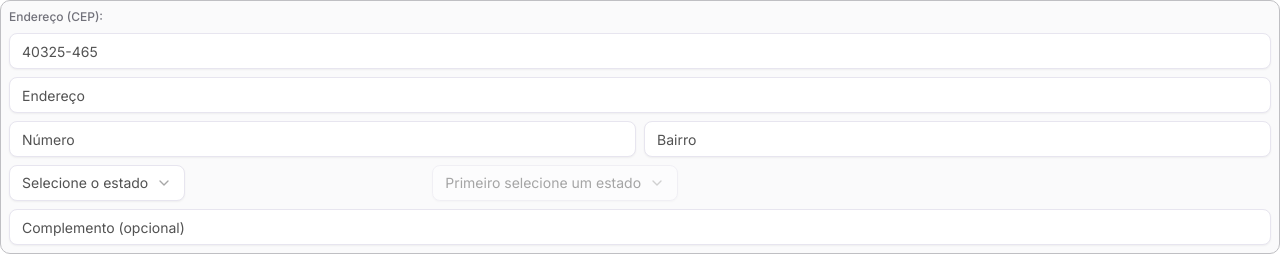
Test case: DeliveryAddressForm CEP › CEP válido encontrado preenche e trava estado e cidade
This screenshot has width=1280, height=271.
Type "40344530" into the field with placeholder "40325-465" at coordinates (640, 51), box left=9, top=33, right=1271, bottom=69
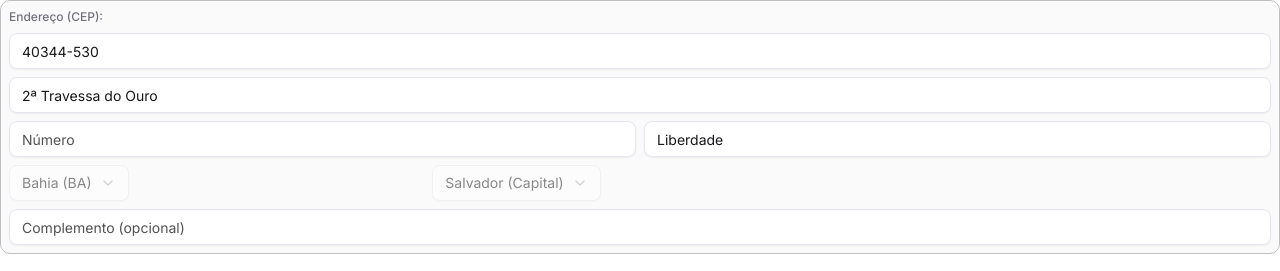
Check: the 2nd field showing "2ª Travessa do Ouro" is shown, box left=9, top=77, right=1271, bottom=113
Check: the text "Salvador (Capital)" is shown, box left=445, top=173, right=564, bottom=193
Check: the dropdown labelled "Bahia (BA)" is disabled, box left=9, top=165, right=128, bottom=201
